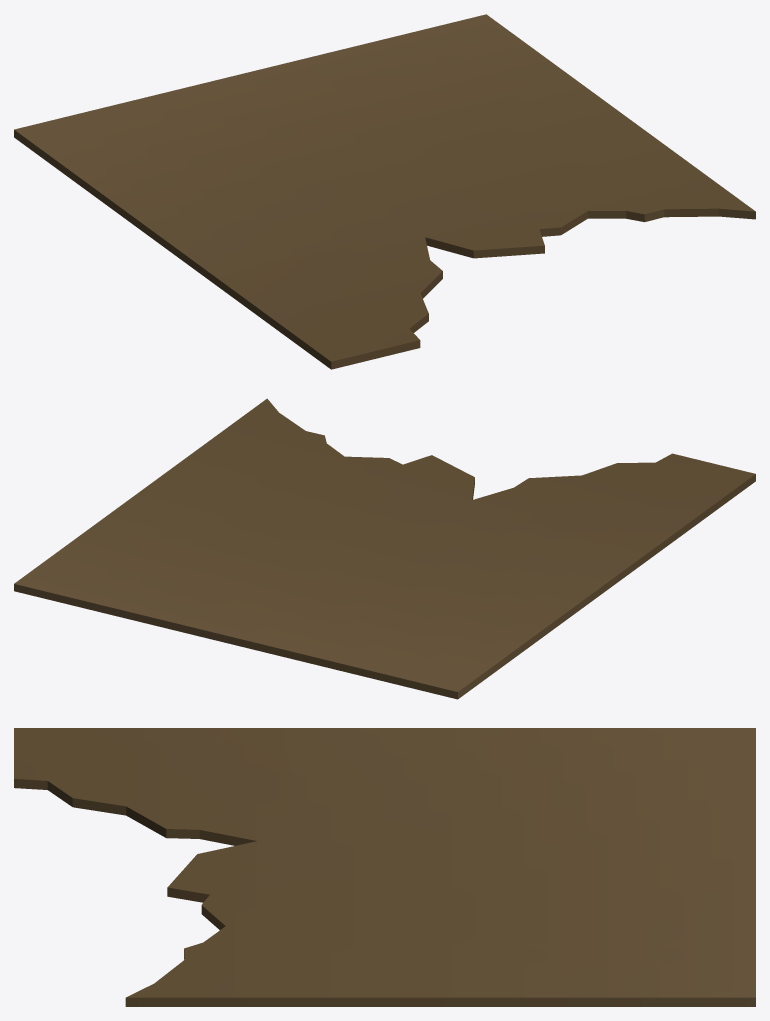
Rendered from carton 1.fbx.
3 views of the same model, one above another, from view 1: azimuth 30°, elevation 25°; view 2: azimuth 150°, elevation 25°; view 3: azimuth 270°, elevation 25° (orthographic). The views are drawn at different scales.
Parts seen in each view (by area): view 1: carton; view 2: carton; view 3: carton.
Boxes of the visible parts, x1,y1,x2,y2 form: carton: [14, 14, 755, 369]; carton: [14, 398, 755, 699]; carton: [14, 728, 755, 1006].
Bounding box in the file's own units: 40 × 46.53 × 0.6382.
